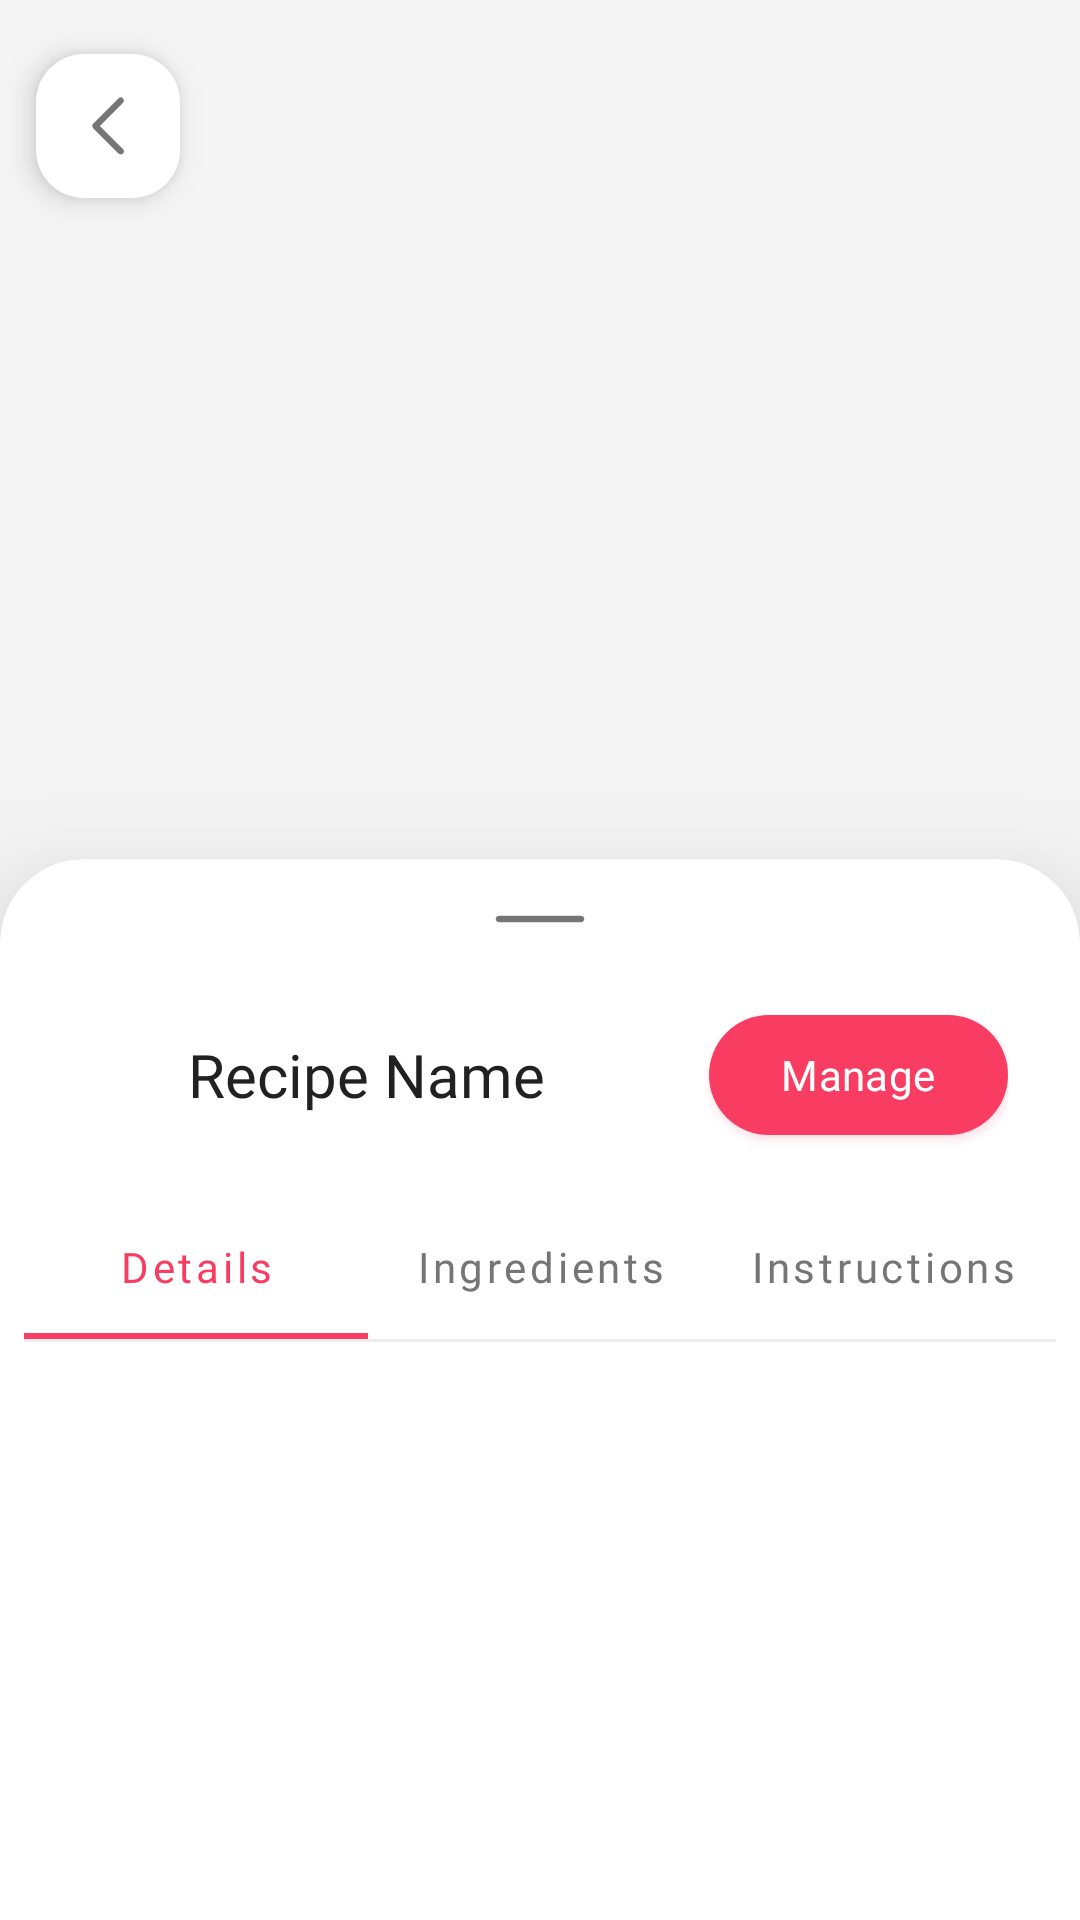

Where icons sit on this 1080w x 1920h app screen, as [x1,y1,x2,y2]:
arrow back: [21,46,185,209]
